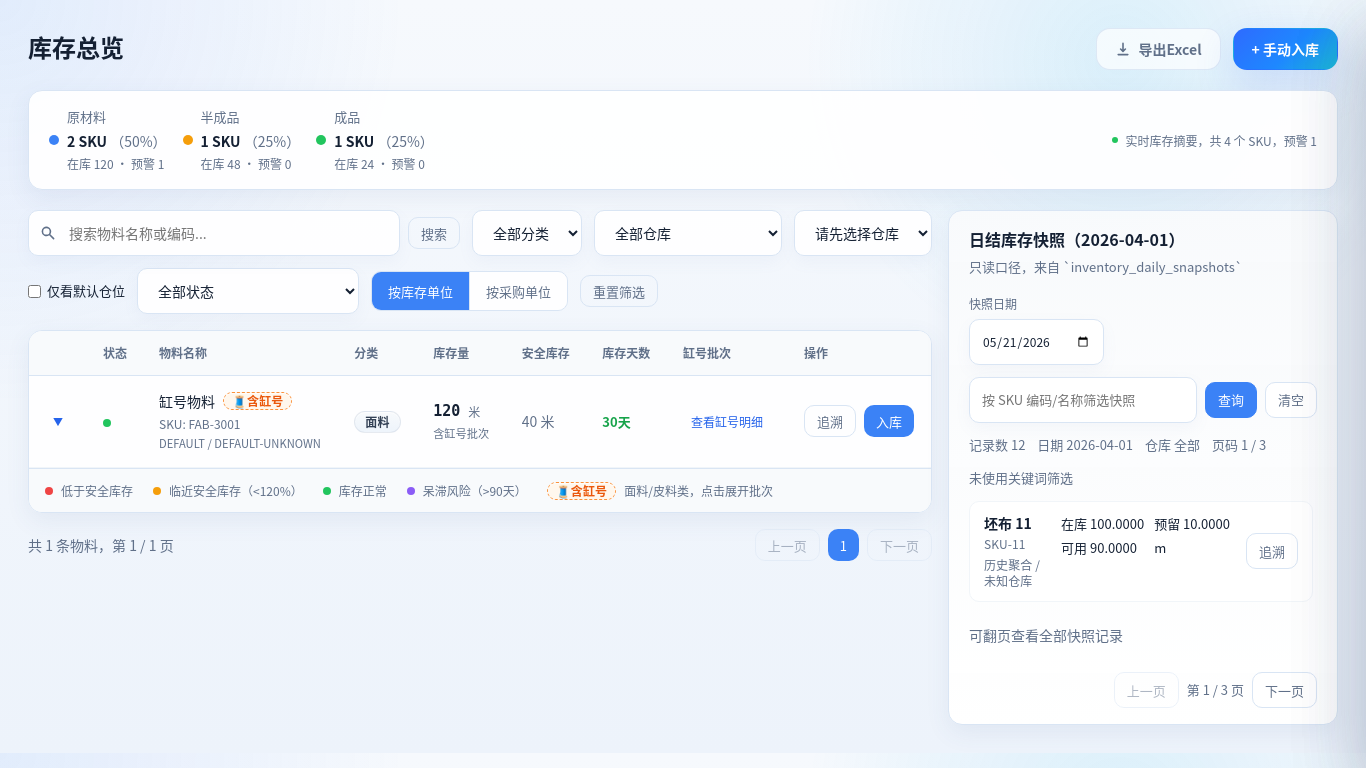
Test: InventoryPage › 缸号批次点击 查看用途 应打开追溯并带缸号关键词
Step 1. Click the button "查看缸号明细" → coordinates (727, 421), box [683, 409, 771, 434]
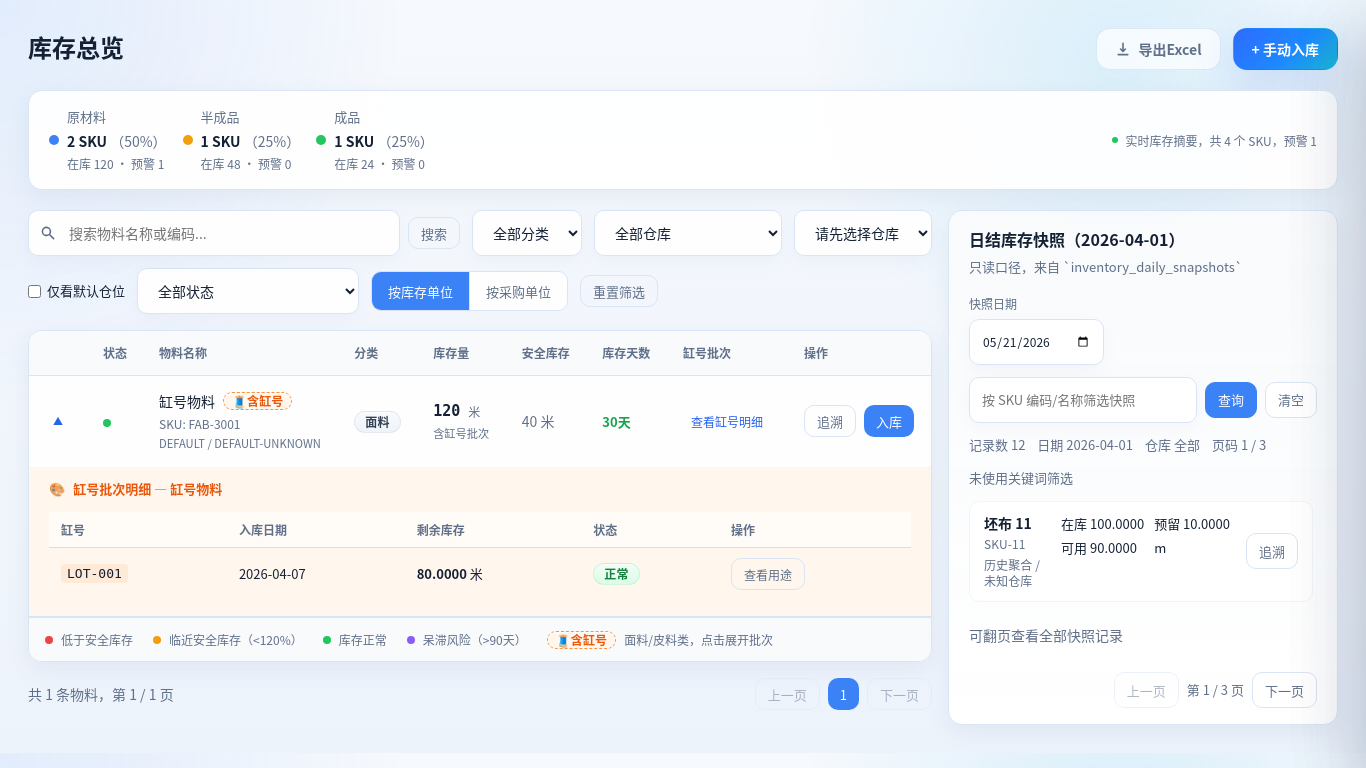
Step 2. Click the button "查看用途" → coordinates (768, 574), box [731, 558, 805, 590]
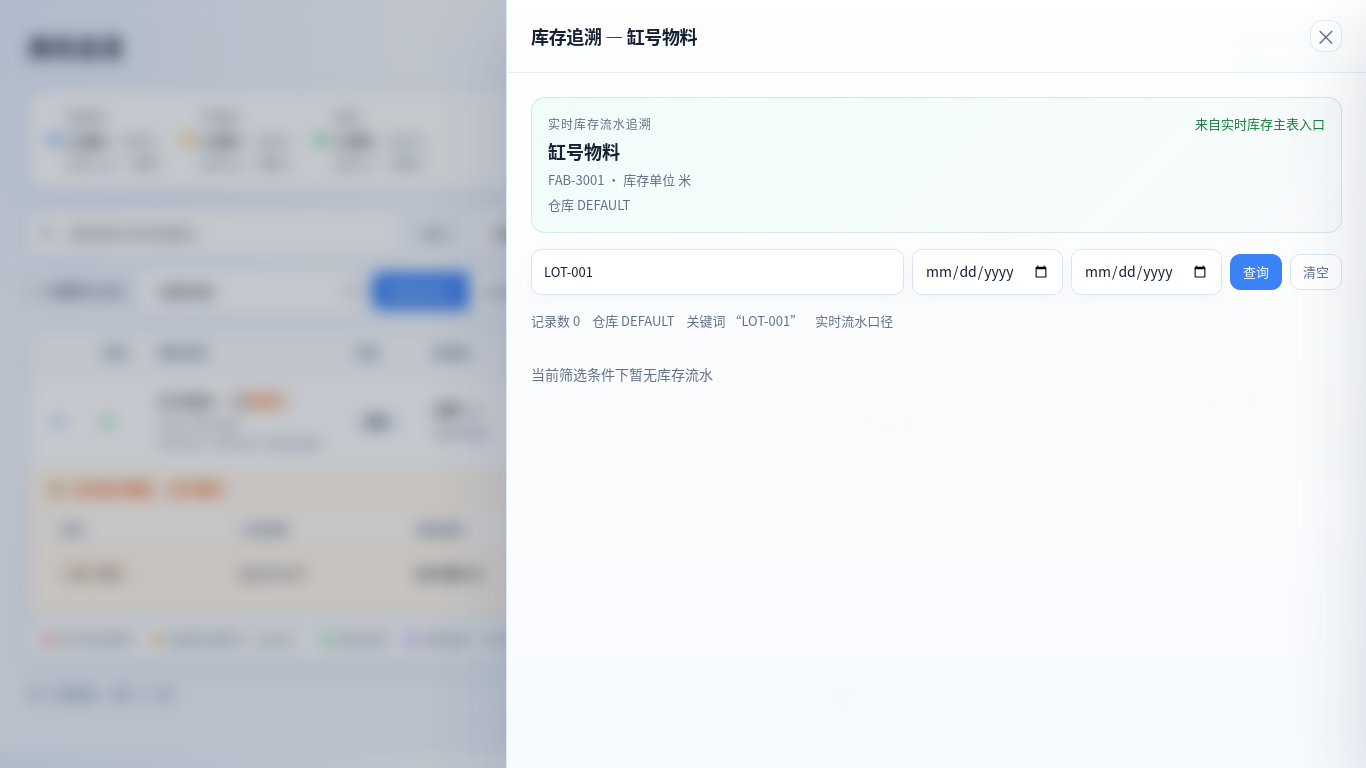
Expected: the dialog "库存追溯 — 缸号物料" is shown
